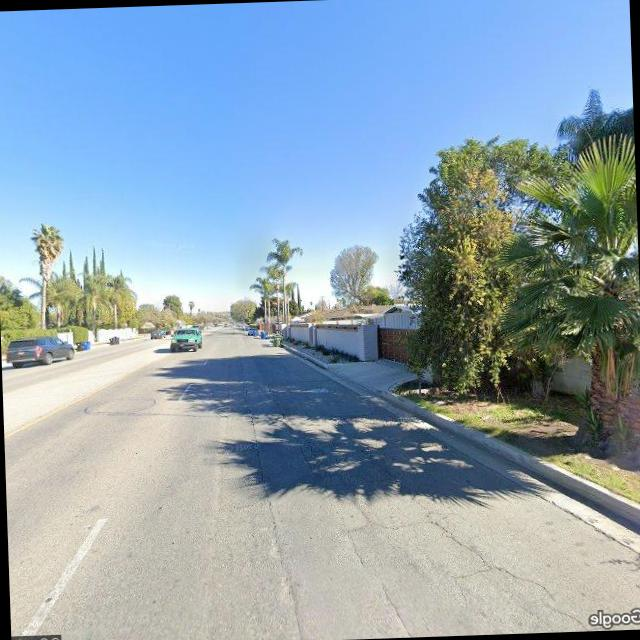pothole: (410, 494, 576, 628)
